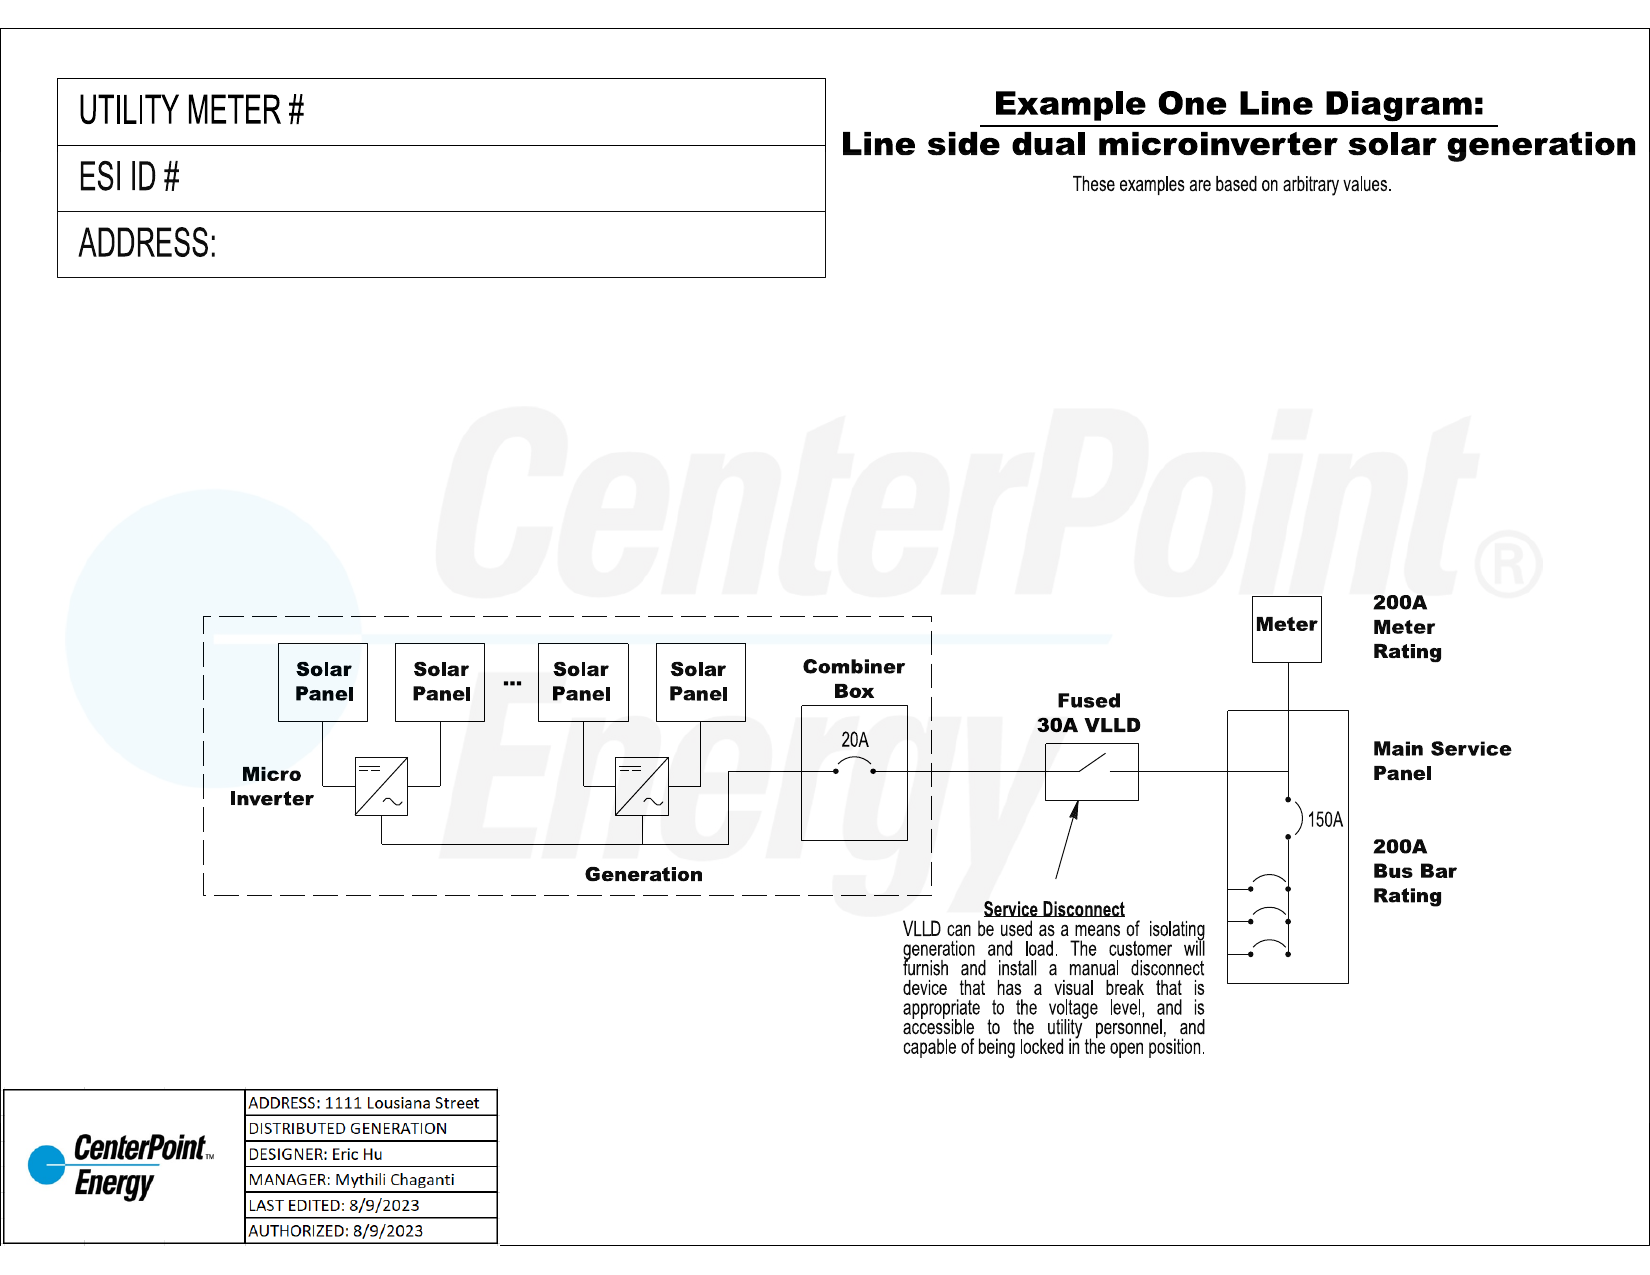circuit_breaker: (816, 745, 889, 792), (1229, 904, 1308, 936), (1219, 936, 1304, 966), (1228, 865, 1300, 900), (1274, 775, 1312, 834)
switch: (1053, 746, 1130, 785)
